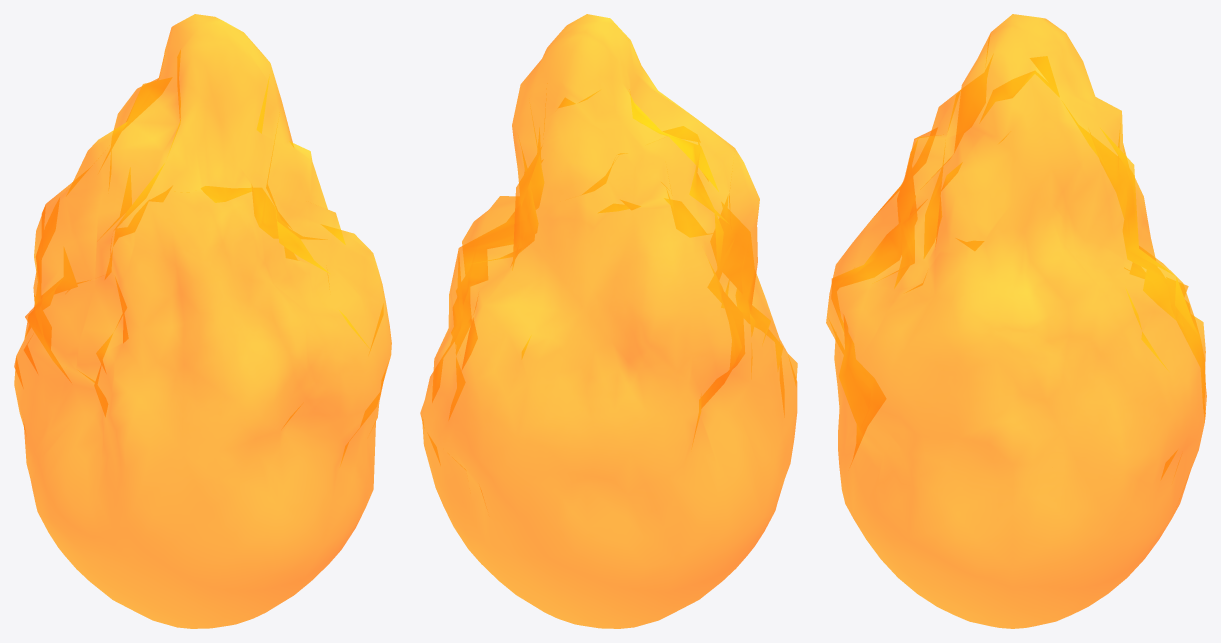
The model's file is FIRETEST.gltf.
3 views of the same model, side by side, from view 1: azimuth 30°, elevation 25°; view 2: azimuth 150°, elevation 25°; view 3: azimuth 270°, elevation 25° (orthographic).
Visible parts, largest first — view 1: Icosphere; view 2: Icosphere; view 3: Icosphere.
Part boxes in pixels (box(x1,y1,x2,y2)): Icosphere: box(14, 14, 391, 628); Icosphere: box(420, 14, 797, 628); Icosphere: box(826, 14, 1206, 628).
Bounding box in the file's own units: 1.74 × 3.12 × 1.79.
Materials: 1 (1 with a texture image).
